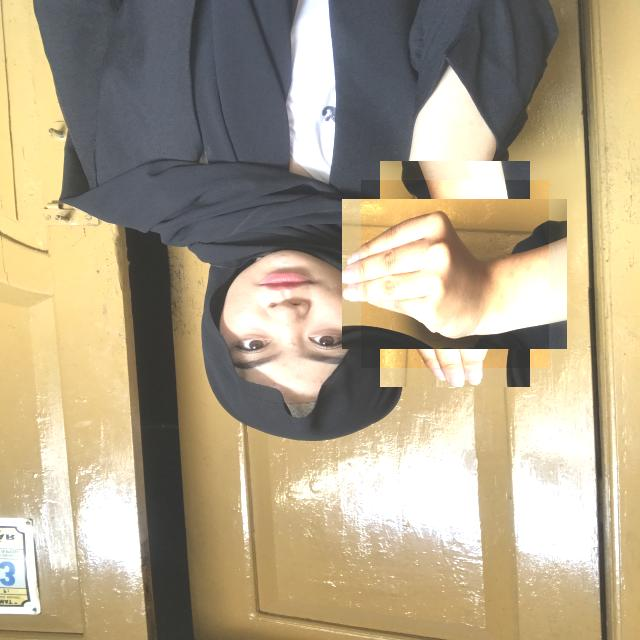kapan: (361, 180, 549, 368)
